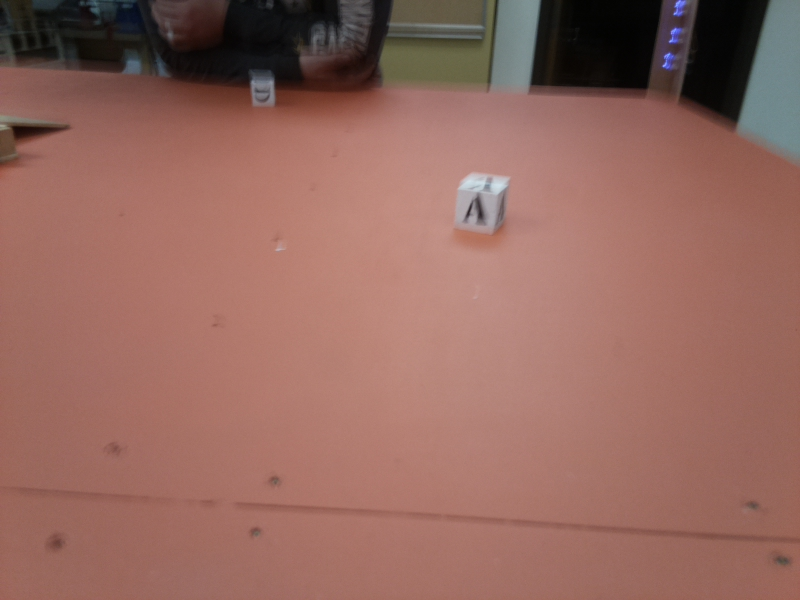blockA: (454, 173, 508, 234)
blockD: (252, 72, 274, 109)
corner: (642, 1, 697, 110)
side: (1, 126, 25, 172)
slope: (2, 109, 77, 129)
